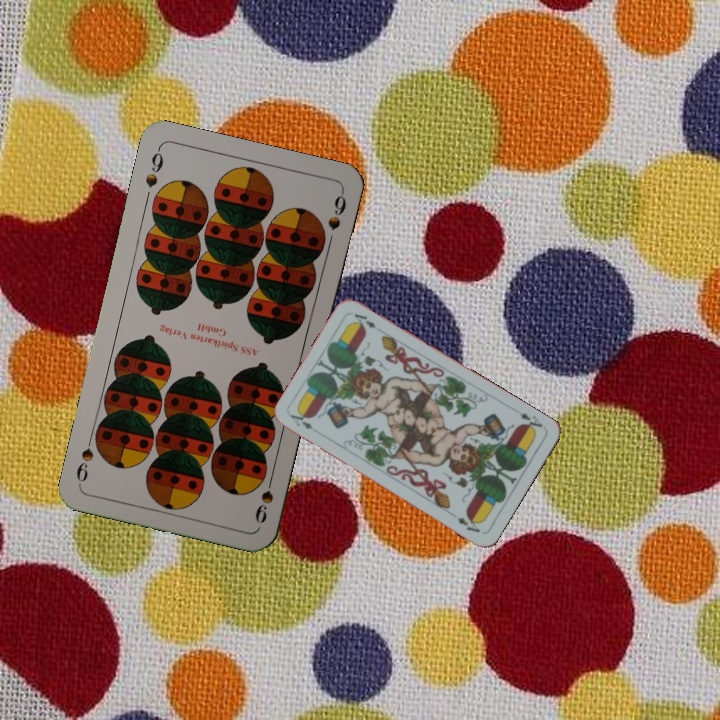EA: (515, 408, 545, 435), (286, 409, 315, 432)
S9: (251, 469, 277, 526), (141, 144, 166, 190)
